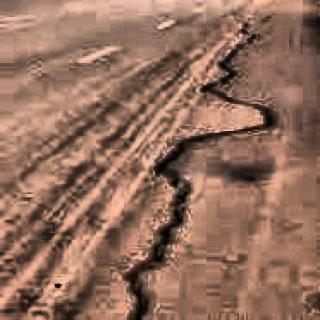crack: (116, 21, 274, 320)
